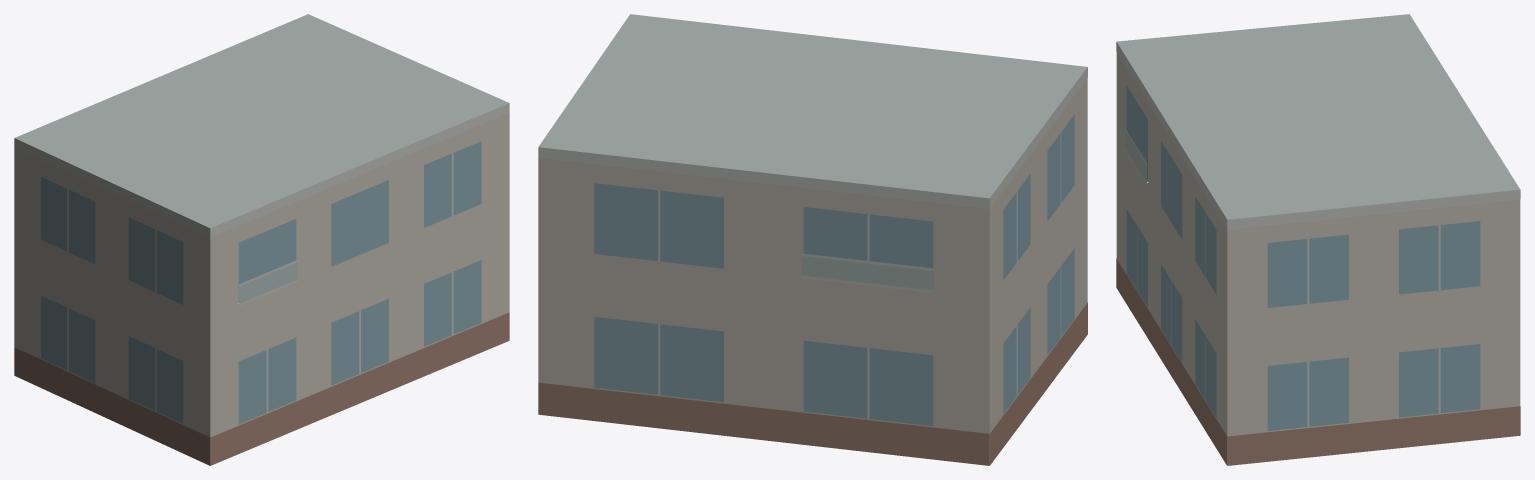
The model's file is survey-upis-32471881.glb.
3 views of the same model, side by side, from view 1: azimuth 30°, elevation 25°; view 2: azimuth 150°, elevation 25°; view 3: azimuth 270°, elevation 25° (orthographic). The views are drawn at different scales.
Parts seen in each view (by area): view 1: survey-upis-32471881.tmp; view 2: survey-upis-32471881.tmp; view 3: survey-upis-32471881.tmp.
Boxes of the visible parts, box(x1,y1,x2,y2) form: survey-upis-32471881.tmp: box(14, 14, 509, 465); survey-upis-32471881.tmp: box(538, 14, 1087, 465); survey-upis-32471881.tmp: box(1116, 14, 1520, 465).
Size of the model in its own units: 10.95 by 6.1 by 9.09.
